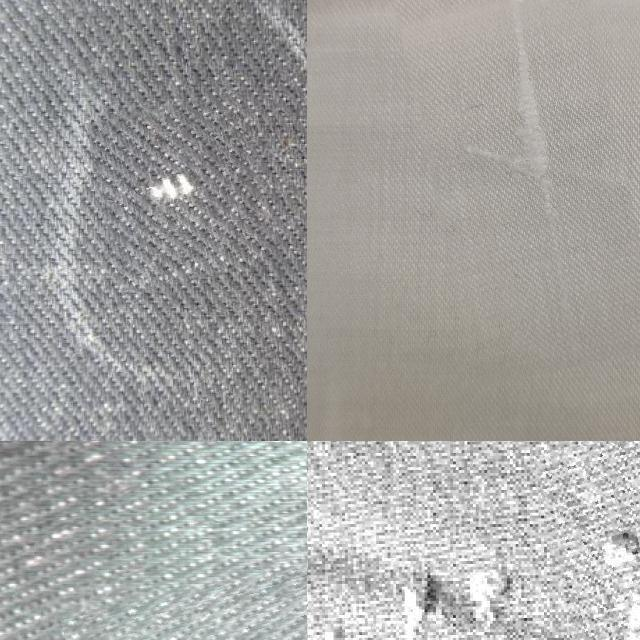Thread_other: (393, 0, 636, 381), (341, 441, 532, 640), (94, 96, 272, 286), (78, 545, 307, 640), (550, 441, 640, 640)
